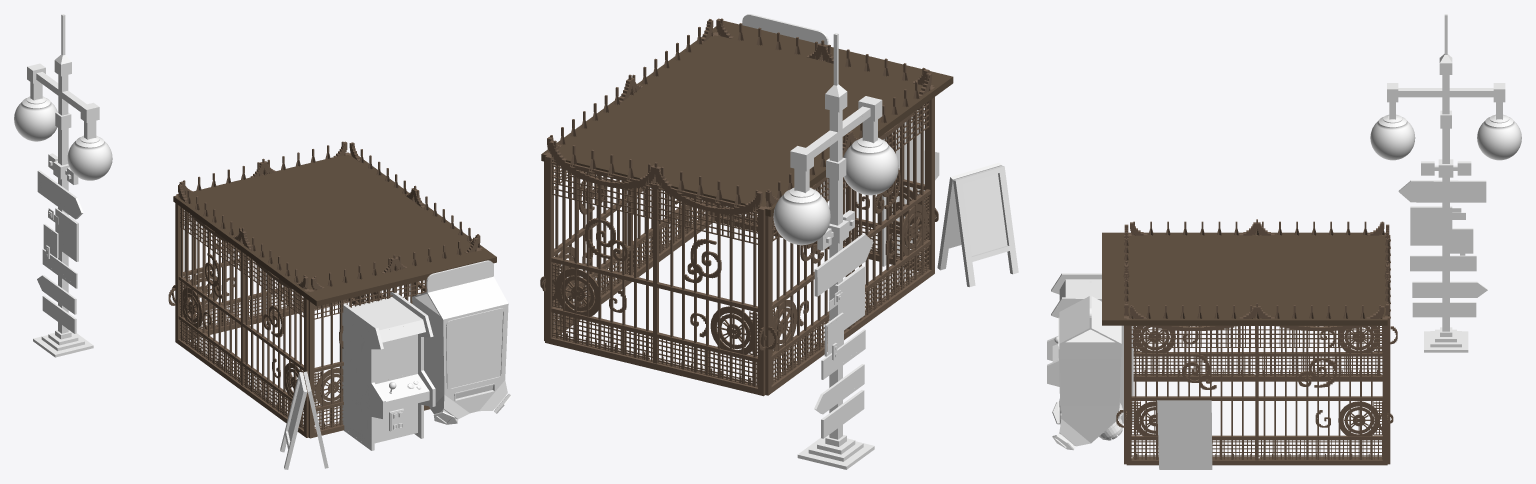
The model's file is ramenShop-allgates.glb.
The picture shows the model from 3 angles, left to right: view 1: azimuth 30°, elevation 25°; view 2: azimuth 150°, elevation 25°; view 3: azimuth 270°, elevation 25°; orthographic projection. The views are drawn at different scales.
Parts seen in each view (by area): view 1: roof, miscJoined, gate_left, graphicsJoined, gate_front, gate_back, vendingMachineScreen, poleLight, arcadeScreen, gate_right, arcadeRim, projectsRed (+1 smaller); view 2: roof, gate_back, gate_left, miscJoined, gate_right, poleLight, gate_front, easelFrontGraphic, graphicsJoined, projectsRed, jZhouPink, aboutMeBlue; view 3: miscJoined, roof, gate_right, gate_left, poleLight, gate_back, graphicsJoined, gate_front.
Part boxes in pixels (bbox=[...]): roof: bbox=[173, 155, 496, 306]; miscJoined: bbox=[22, 14, 511, 469]; gate_left: bbox=[172, 184, 311, 437]; graphicsJoined: bbox=[342, 261, 508, 446]; gate_front: bbox=[306, 237, 481, 438]; gate_back: bbox=[168, 141, 348, 339]; vendingMachineScreen: bbox=[449, 310, 502, 388]; poleLight: bbox=[14, 101, 112, 180]; arcadeScreen: bbox=[374, 334, 415, 382]; gate_right: bbox=[347, 142, 482, 305]; arcadeRim: bbox=[343, 289, 435, 450]; projectsRed: bbox=[38, 174, 79, 216]; roof: bbox=[541, 21, 953, 216]; gate_back: bbox=[540, 140, 776, 396]; gate_left: bbox=[758, 73, 936, 395]; miscJoined: bbox=[742, 14, 1018, 469]; gate_right: bbox=[542, 19, 715, 340]; poleLight: bbox=[773, 144, 898, 245]; gate_front: bbox=[714, 18, 938, 270]; easelFrontGraphic: bbox=[962, 173, 1007, 255]; graphicsJoined: bbox=[886, 110, 937, 261]; projectsRed: bbox=[819, 238, 870, 292]; jZhouPink: bbox=[840, 273, 862, 325]; aboutMeBlue: bbox=[820, 369, 861, 410]; miscJoined: bbox=[1047, 14, 1513, 469]; roof: bbox=[1102, 232, 1387, 325]; gate_right: bbox=[1116, 303, 1393, 465]; gate_left: bbox=[1128, 219, 1397, 381]; poleLight: bbox=[1370, 120, 1521, 160]; gate_back: bbox=[1384, 224, 1390, 464]; graphicsJoined: bbox=[1059, 282, 1089, 343]; gate_front: bbox=[1123, 224, 1129, 464].
Size of what is drawn, in the model's own units: 6.74 by 7.46 by 9.73.
